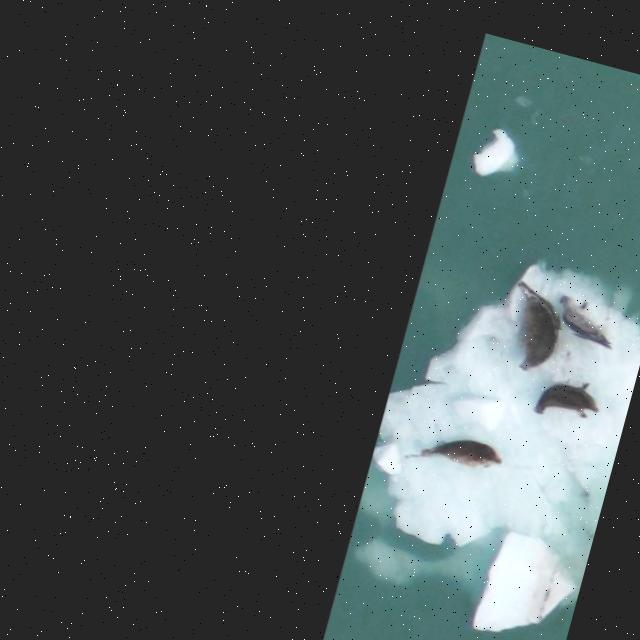seal: (519, 282, 561, 369), (417, 439, 502, 469), (561, 295, 610, 344), (534, 382, 600, 418)
